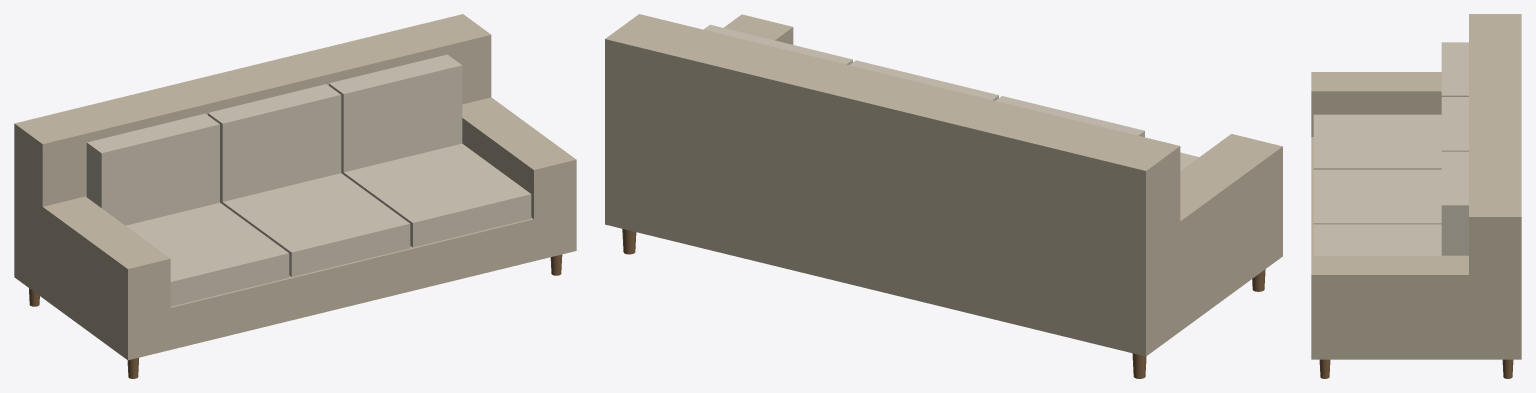
Rendered from canape-lin-210.glb.
3 views of the same model, side by side, from view 1: azimuth 30°, elevation 25°; view 2: azimuth 150°, elevation 25°; view 3: azimuth 270°, elevation 25° (orthographic). The views are drawn at different scales.
Parts seen in each view (by area): view 1: produit; view 2: produit; view 3: produit.
Boxes of the visible parts, <box> form: produit: <box>14,14,576,378</box>; produit: <box>605,14,1282,378</box>; produit: <box>1311,14,1521,378</box>.
Bounding box in the file's own units: 2.1 × 0.8 × 0.92.
